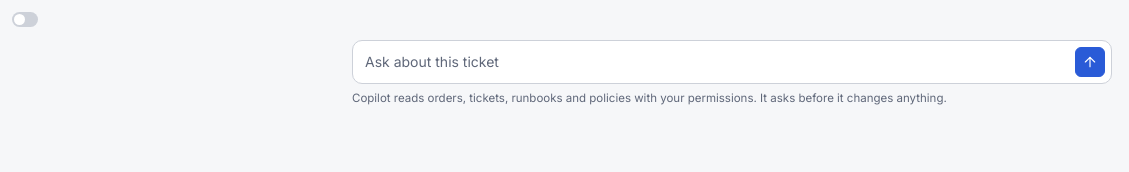
Test: sending › refuses an empty message from the Send button too
Click the button named "Send" at [1090, 62], box x1=1075 y1=47 x2=1105 y2=77
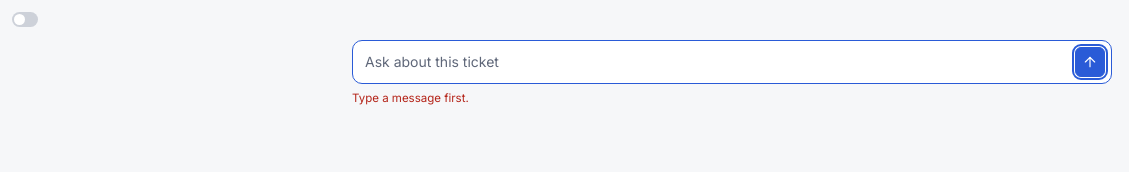
Check: the message "Type a message first." is shown, box x1=352 y1=91 x2=469 y2=105
